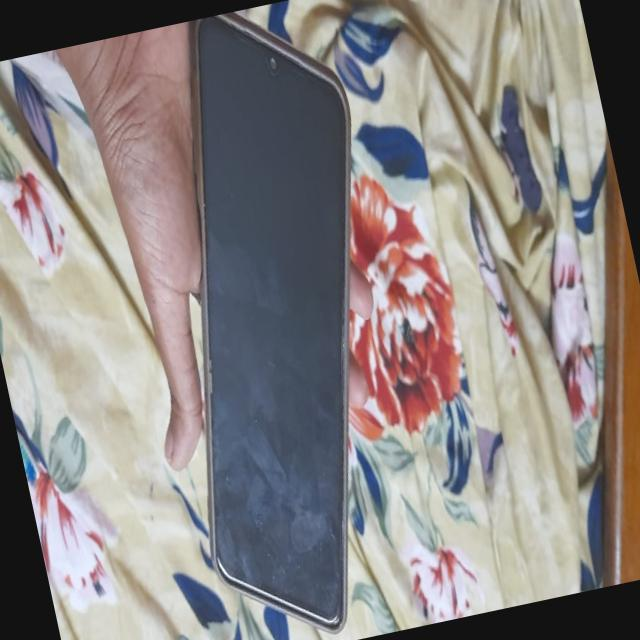Mobile - Recyclable: (94, 0, 470, 640)
